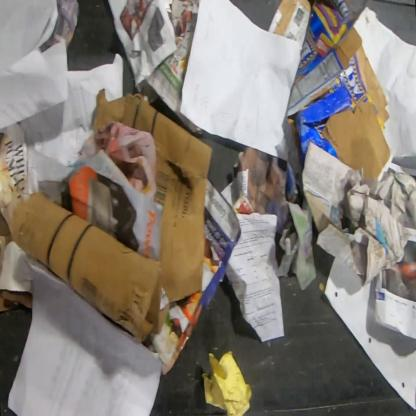cardboard: (90, 88, 214, 303), (10, 191, 172, 344), (285, 0, 390, 133), (294, 83, 391, 180), (267, 0, 312, 57), (0, 133, 39, 195), (304, 188, 354, 235), (284, 160, 304, 206), (0, 289, 33, 313), (285, 113, 299, 151), (0, 209, 10, 239)
